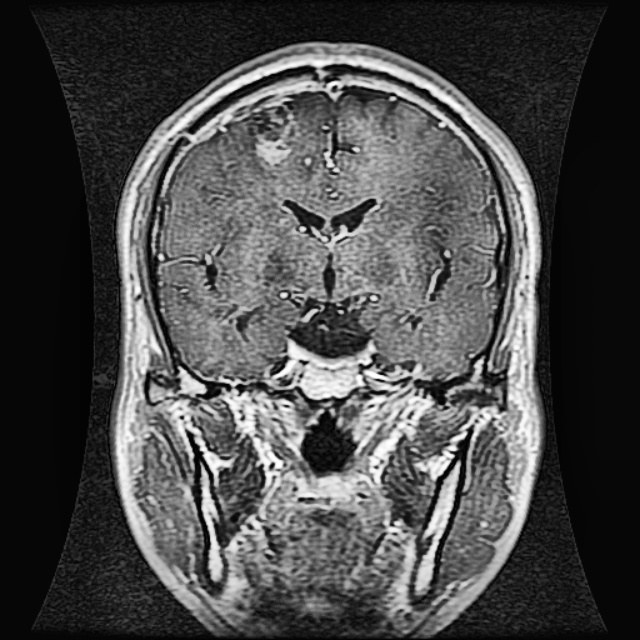Meningioma: (250, 97, 302, 168)
